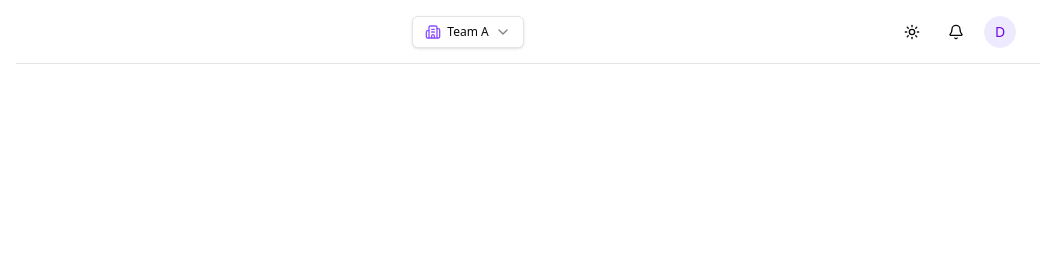
Test: Header workspace switcher › tags the personal workspace in the switcher and leaves team workspaces untagged
Click the button with aria-label "Switch workspace" at point(468, 32), box x1=412 y1=16 x2=524 y2=48
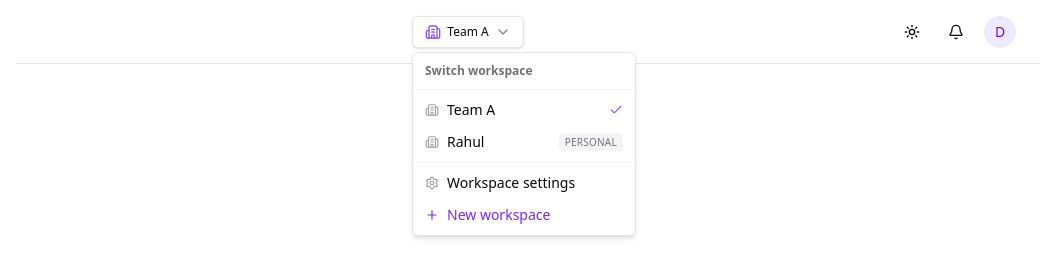
Expected: the text "Personal" is shown, x1=559 y1=133 x2=623 y2=151
